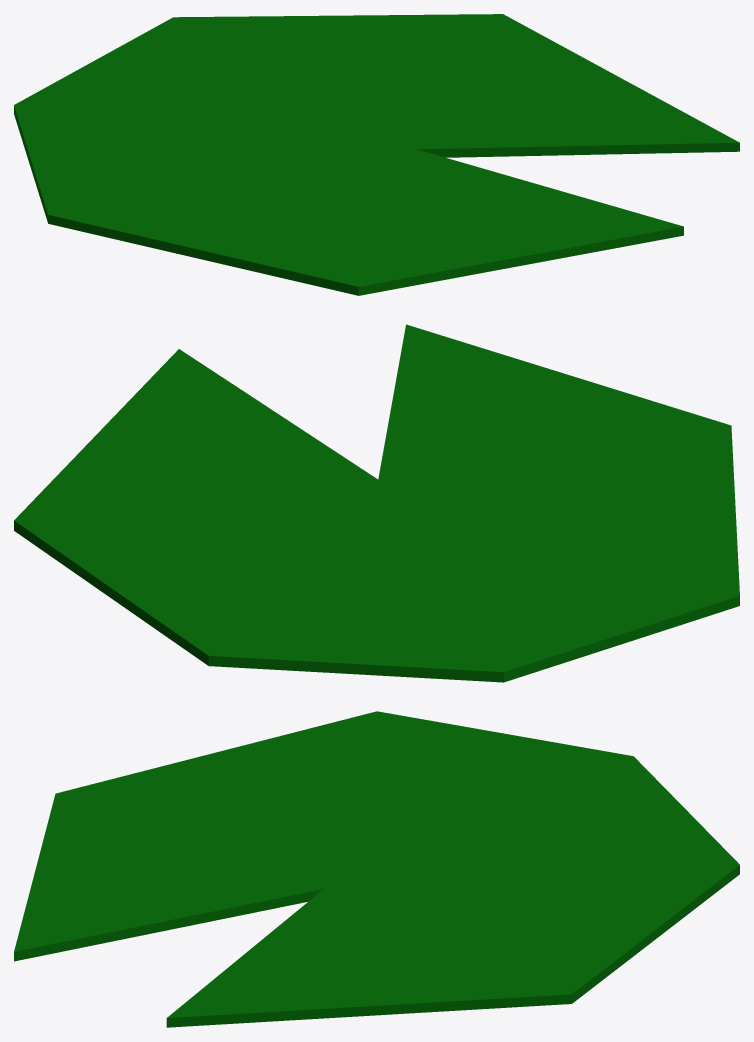
The model's file is DumpstrLilyPad.fbx.
The picture shows the model from 3 angles, top to bottom: view 1: azimuth 30°, elevation 25°; view 2: azimuth 150°, elevation 25°; view 3: azimuth 270°, elevation 25°; orthographic projection. The views are drawn at different scales.
Parts seen in each view (by area): view 1: pCylinder1; view 2: pCylinder1; view 3: pCylinder1.
Boxes of the visible parts, box(x1,y1,x2,y2) form: pCylinder1: box(14, 14, 739, 295); pCylinder1: box(14, 324, 739, 682); pCylinder1: box(14, 711, 739, 1027).
Size of the model in its own units: 17.84 by 0.2601 by 17.84.
